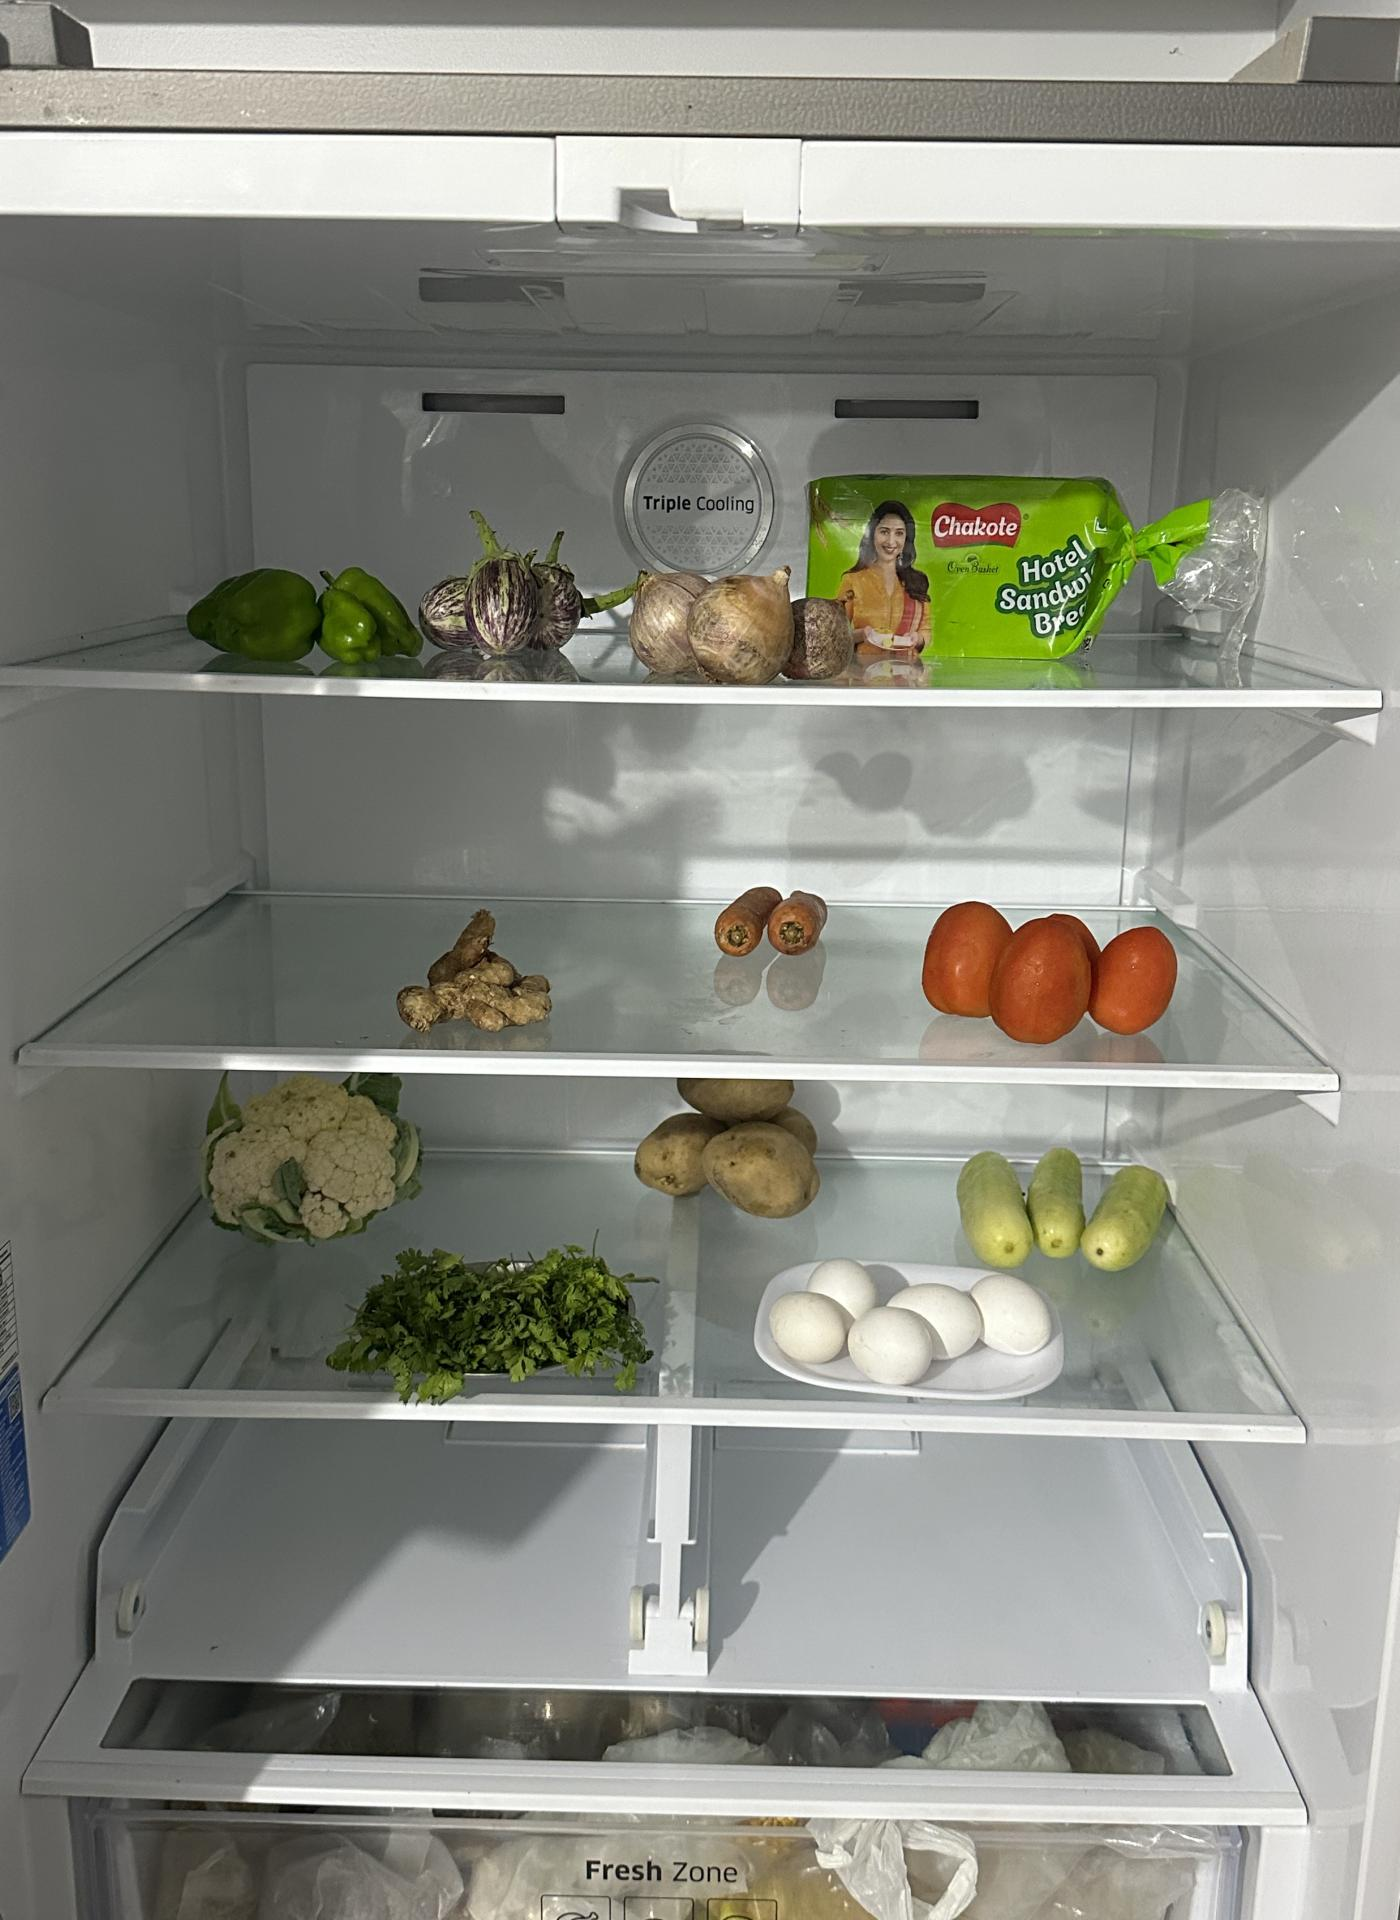bread: (795, 464, 1133, 674)
brinjal: (425, 553, 605, 657)
capsicum: (180, 568, 417, 669)
carrots: (714, 884, 832, 961)
cauliflower: (210, 1072, 423, 1236)
coriander: (332, 1249, 644, 1391)
cucumber: (975, 1146, 1170, 1269)
egg: (769, 1254, 1063, 1380)
ginger: (398, 909, 556, 1030)
onion: (638, 566, 865, 681)
potato: (638, 1078, 823, 1213)
tomato: (917, 908, 1179, 1049)
